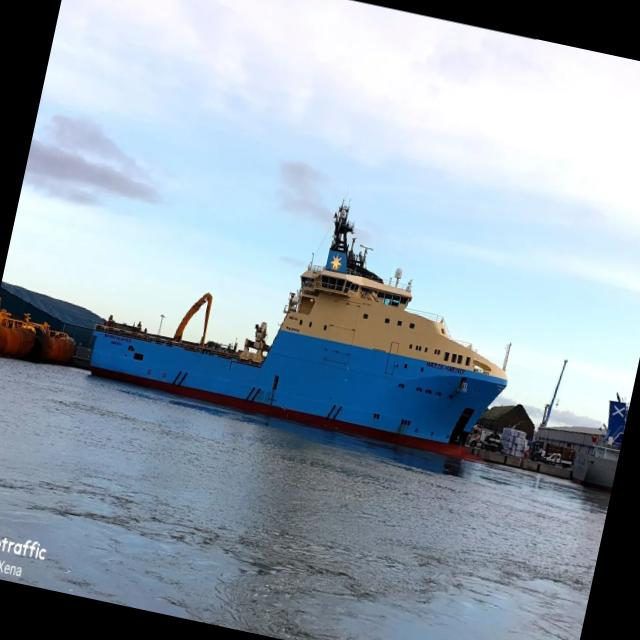Offshore: (90, 204, 507, 453)
